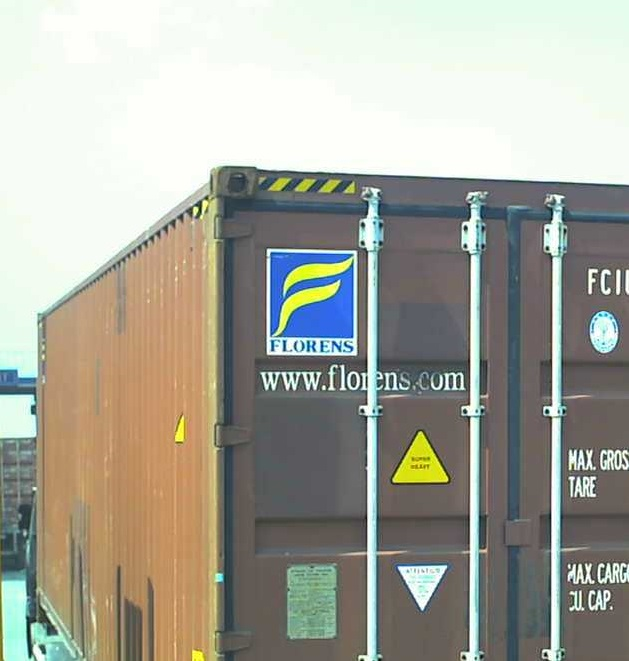container_door: (211, 159, 627, 660)
